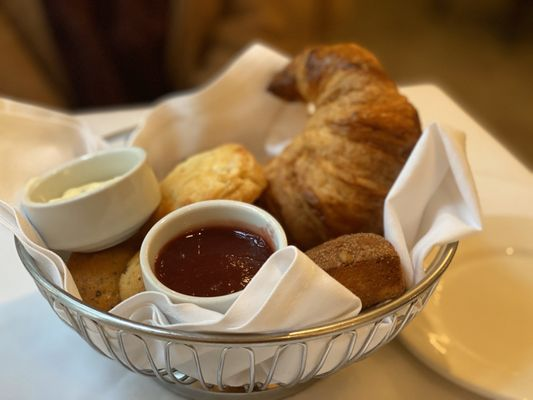salad: (0, 198, 82, 298)
sushi: (10, 196, 441, 400), (397, 241, 533, 400), (139, 200, 288, 308), (18, 146, 162, 254)
